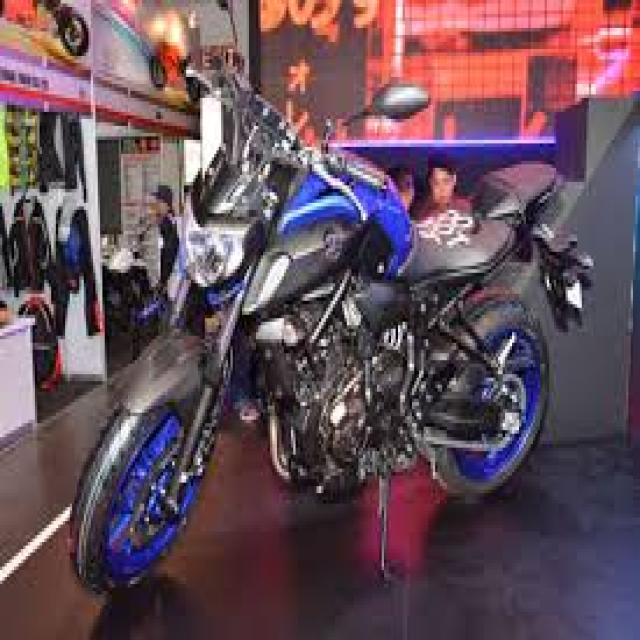bike: (69, 60, 595, 592)
